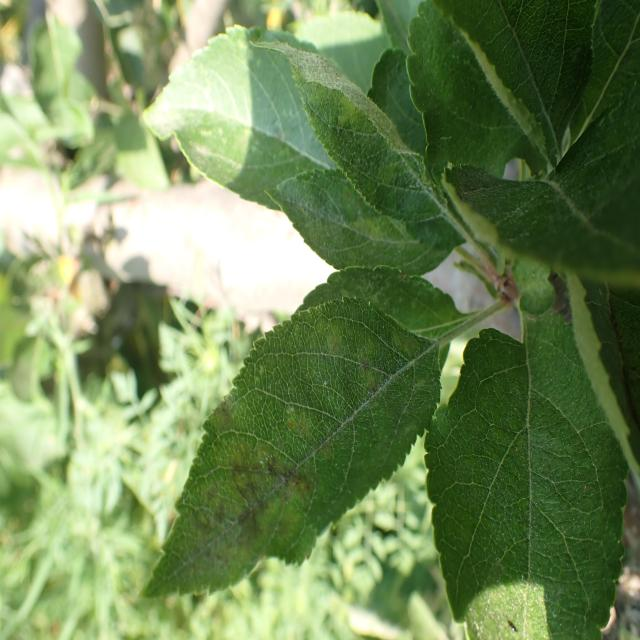scab: (146, 303, 416, 575), (455, 345, 586, 615)
